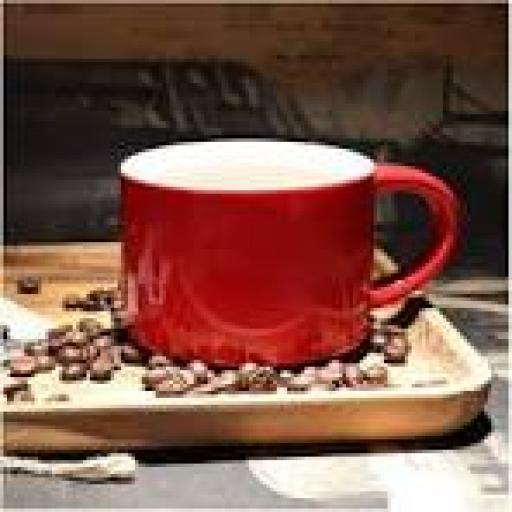red mug: (122, 139, 456, 366)
